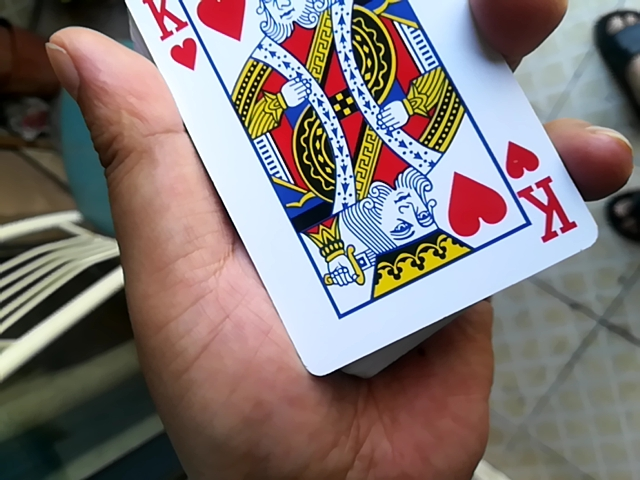hx k: (101, 4, 609, 365)
